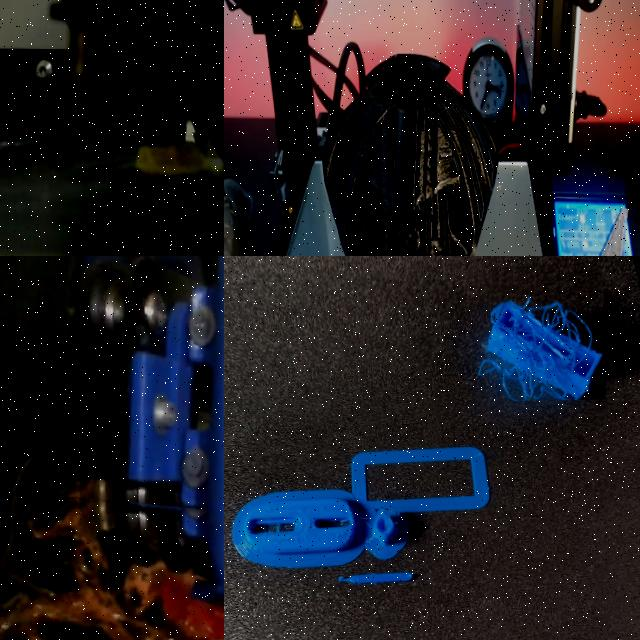spaghetti: (0, 495, 224, 640), (443, 267, 605, 402), (0, 452, 50, 582), (136, 133, 224, 176)
